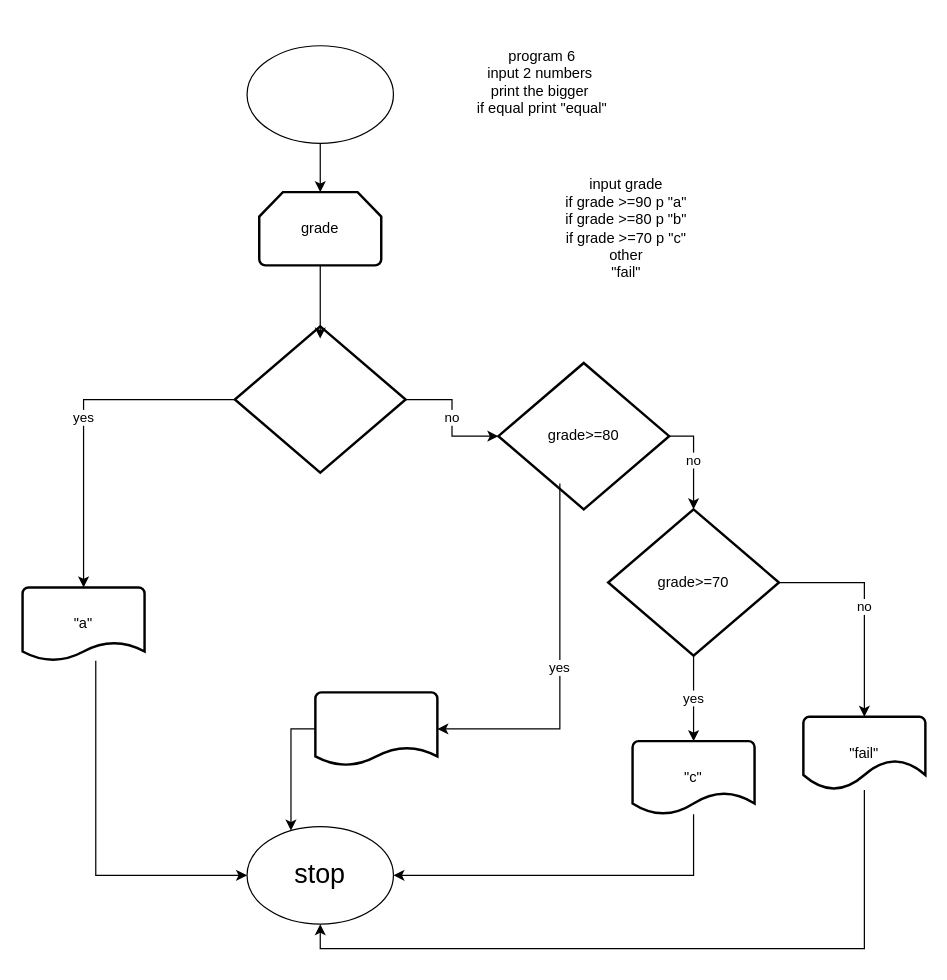
This 947x980 diagram has some shape labels left out. Here are the shapes that lost their labels. From the top down, the centre of each, then its label:
(x=319, y=94): start
(x=319, y=399): grade>=90
(x=376, y=728): "b"
